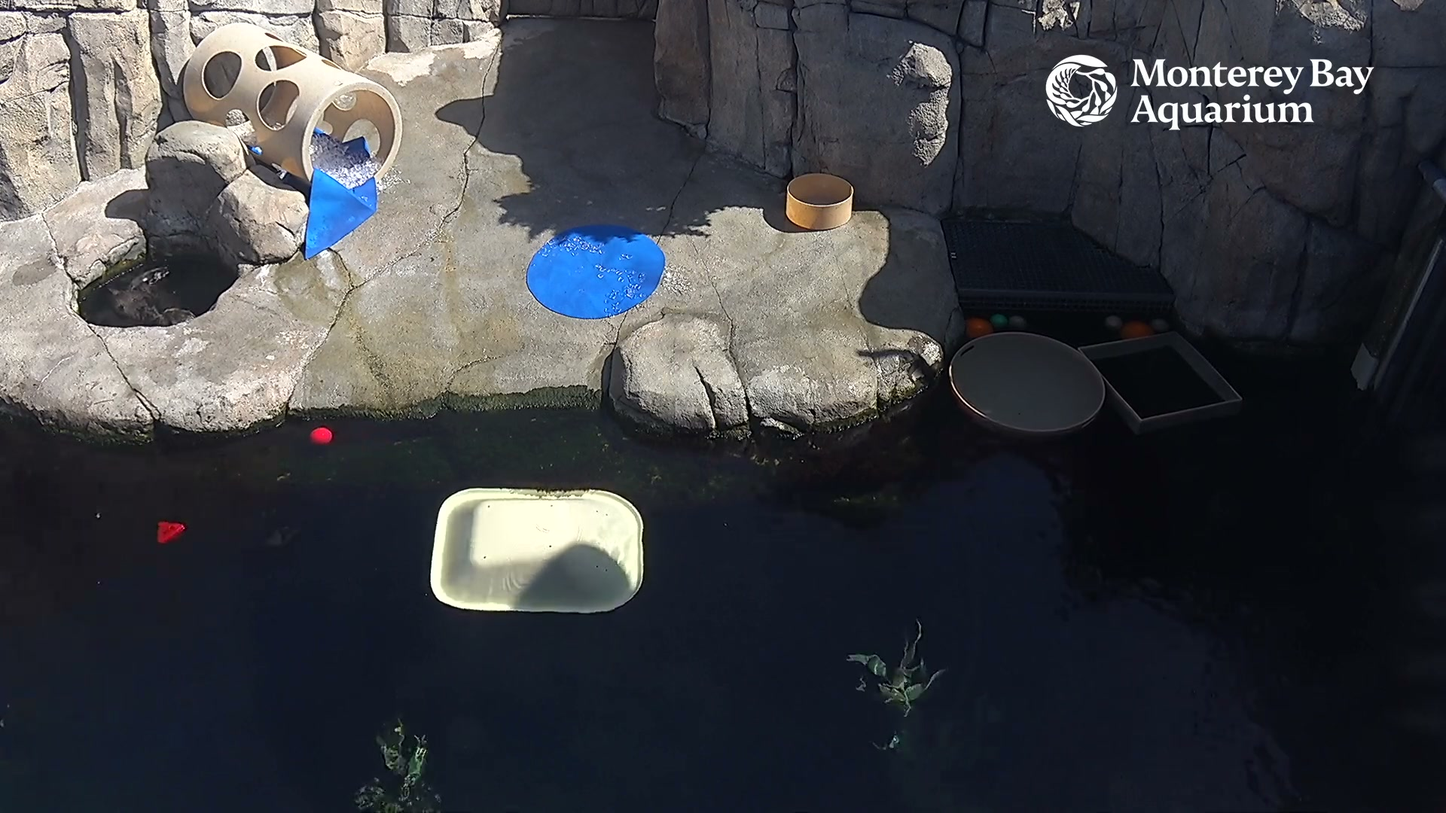Southern Sea Otter: (99, 255, 213, 334)
